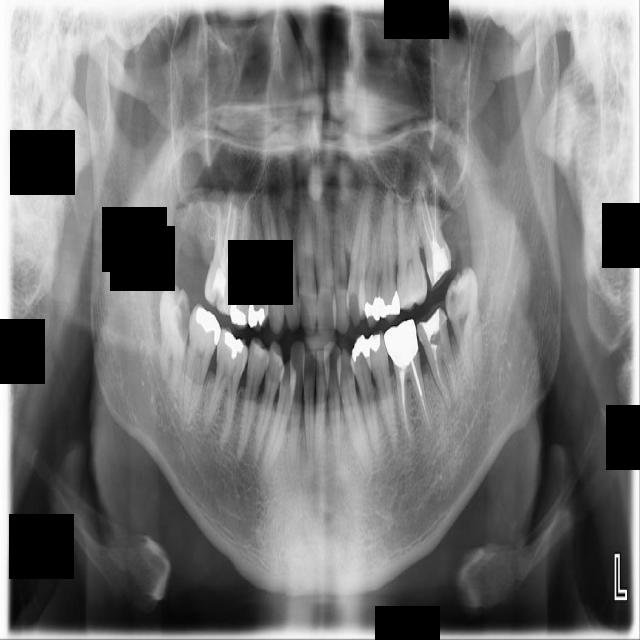52: (409, 306, 458, 352), (381, 318, 422, 372), (214, 325, 251, 378), (189, 303, 221, 358), (203, 262, 234, 316), (425, 240, 453, 291), (361, 329, 390, 377), (172, 281, 196, 337), (357, 276, 381, 328), (440, 279, 467, 319), (247, 286, 271, 331), (349, 335, 372, 381), (377, 281, 400, 322), (230, 287, 249, 329)
73: (388, 351, 437, 447), (421, 333, 471, 411), (411, 167, 449, 256), (209, 183, 242, 277), (616, 608, 626, 618)
BioHorizons Implant: (410, 167, 456, 291)
Biomet 3i Implant: (442, 265, 486, 382)
Blue Sky Bio Implant: (413, 300, 462, 412)
Implant: (180, 302, 223, 430)
Keystone Dental Implant: (159, 285, 193, 391)
